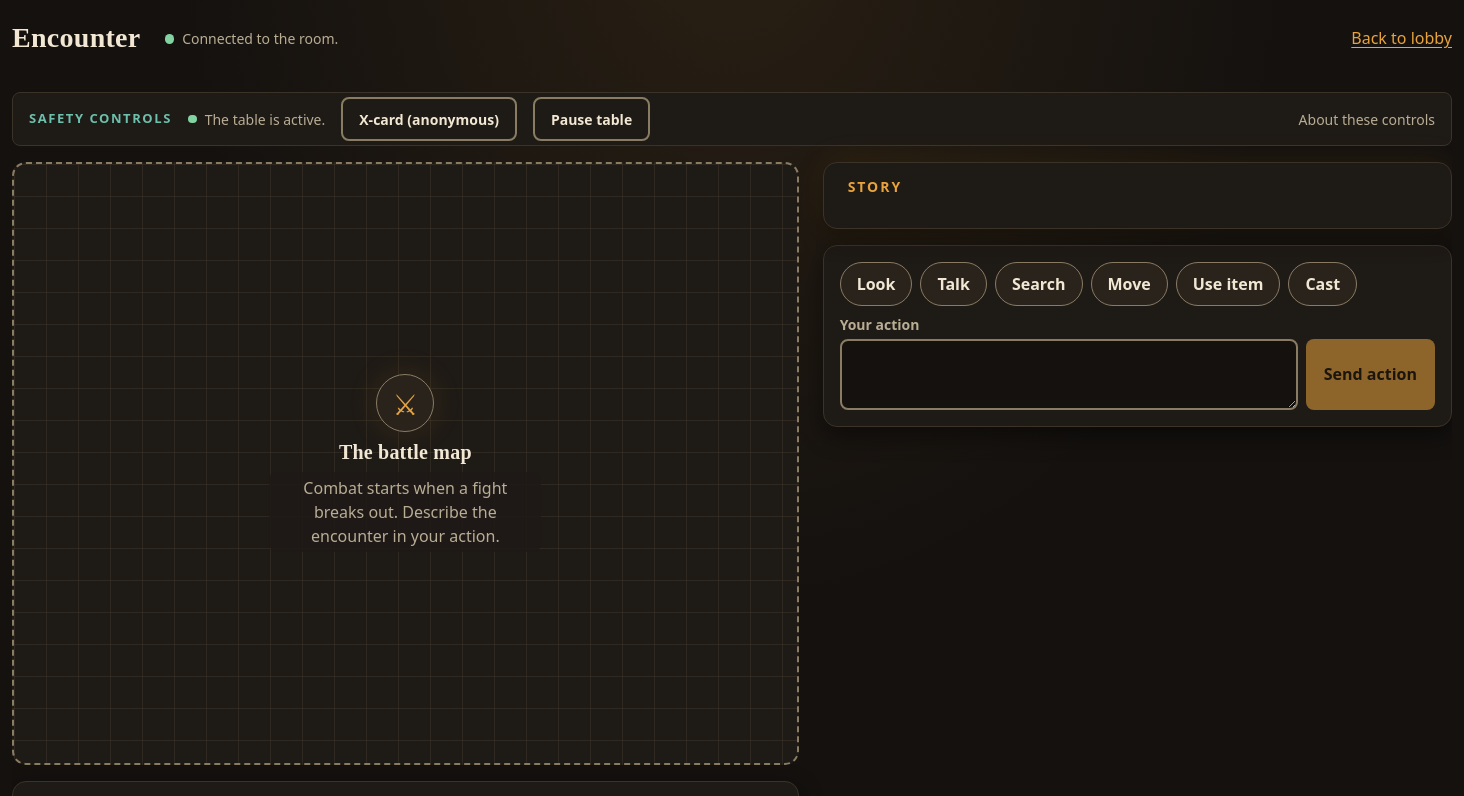
it: Game screen (live Room) › a single-action restriction for this seat keeps the restricted copy and no Retry
The width and height of the screenshot is (1464, 796).
Type "I search the room." into the text box labelled "Your action" at coordinates (1069, 374), box [840,339,1298,410]
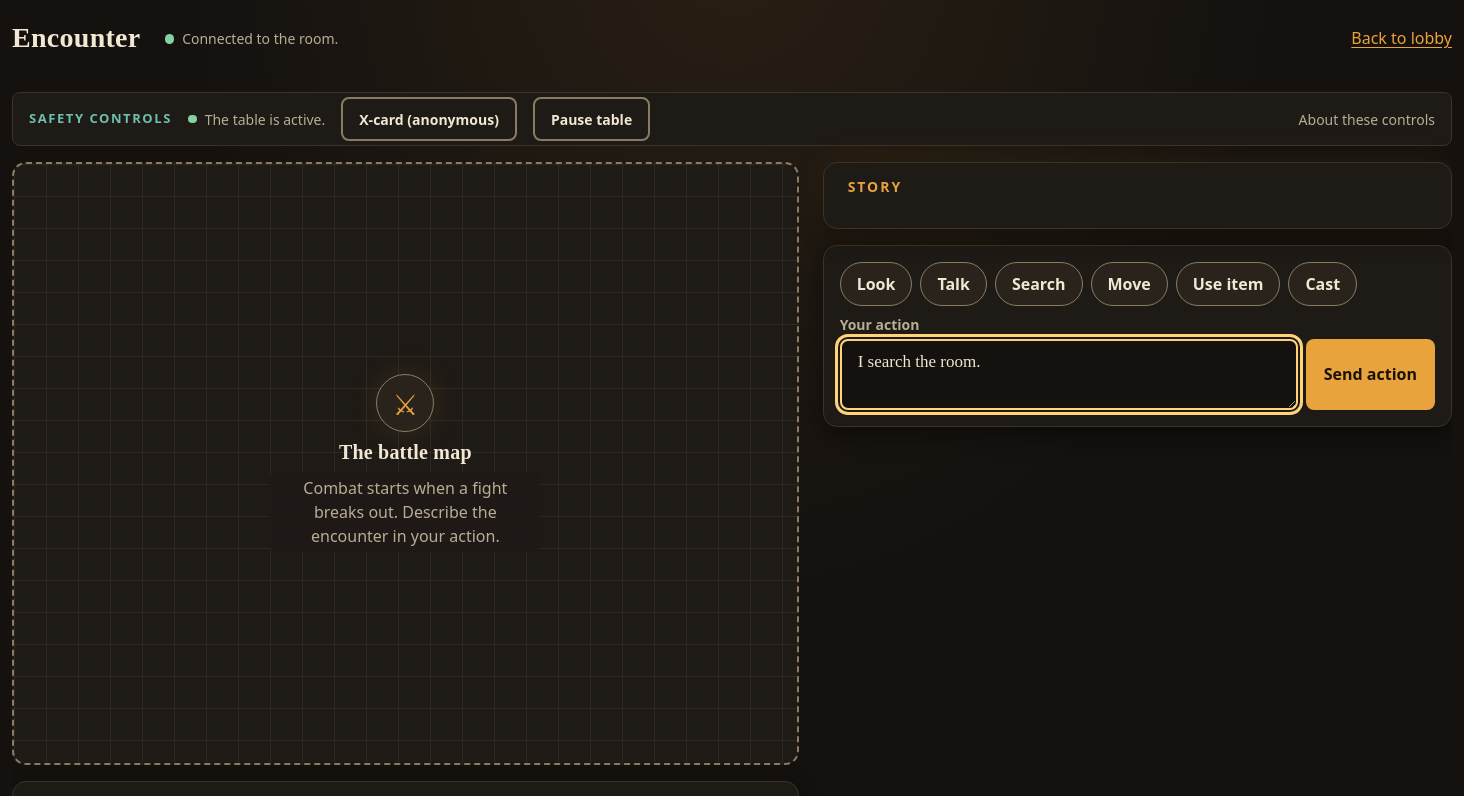
Click the button "Send action" at coordinates (1370, 374), box [1306,339,1435,410]
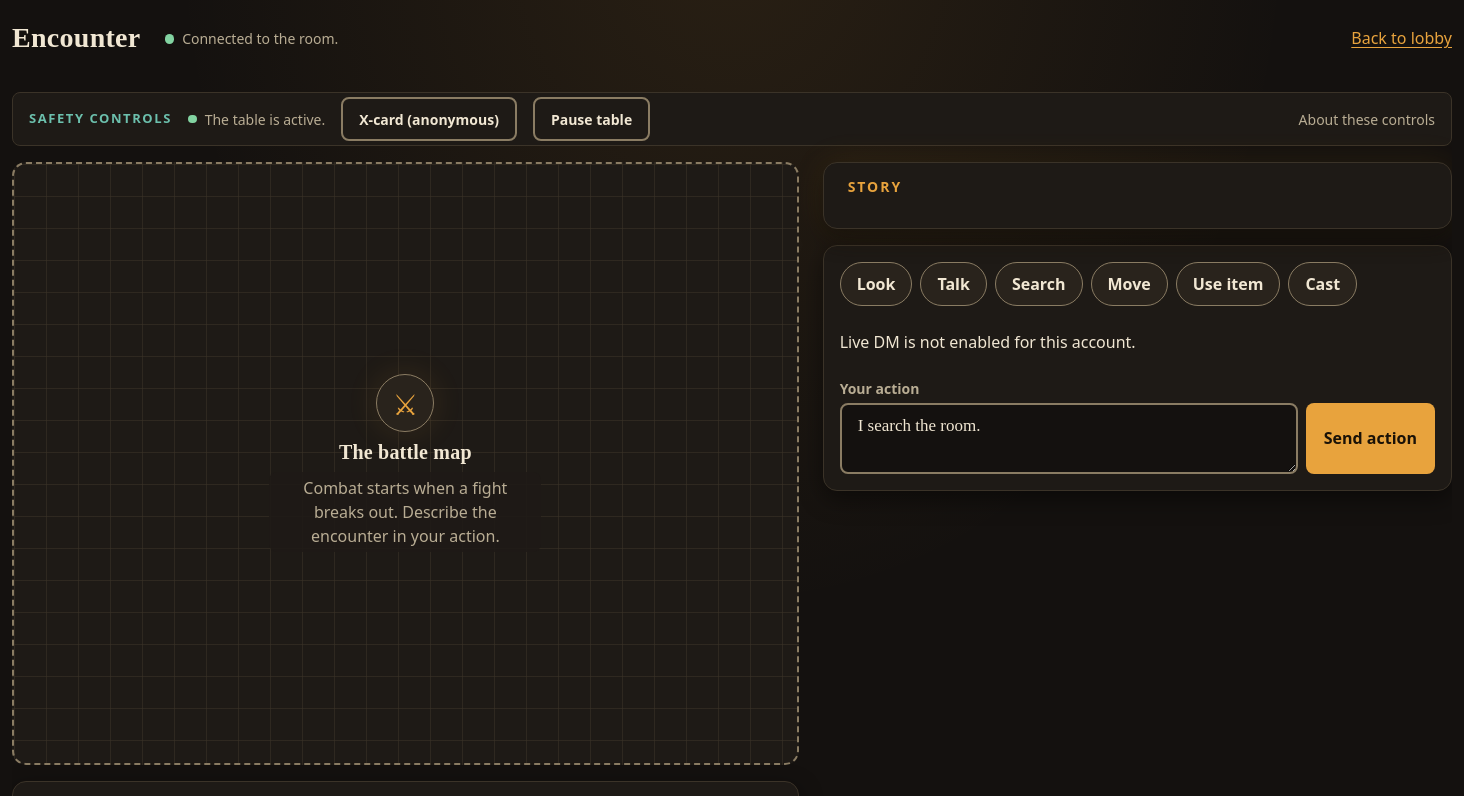
Expected: the text "Live DM is not enabled for this account." is shown, [840,331,1136,353]
